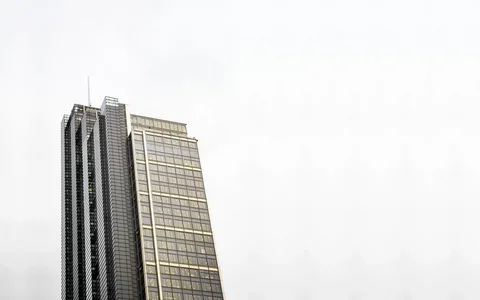high_rise_building: (50, 80, 229, 298)
